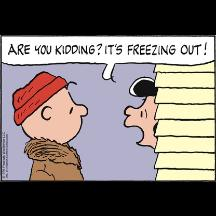charlie: (11, 70, 90, 182)
